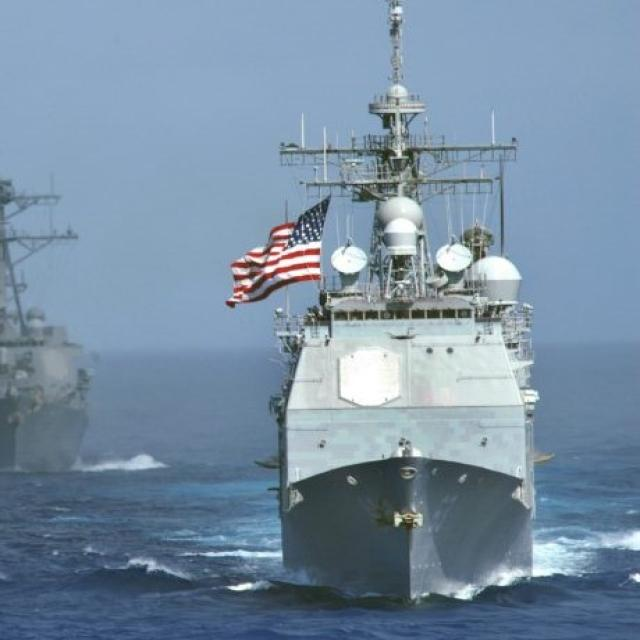navalvessels: (214, 7, 556, 587), (0, 171, 114, 473)
